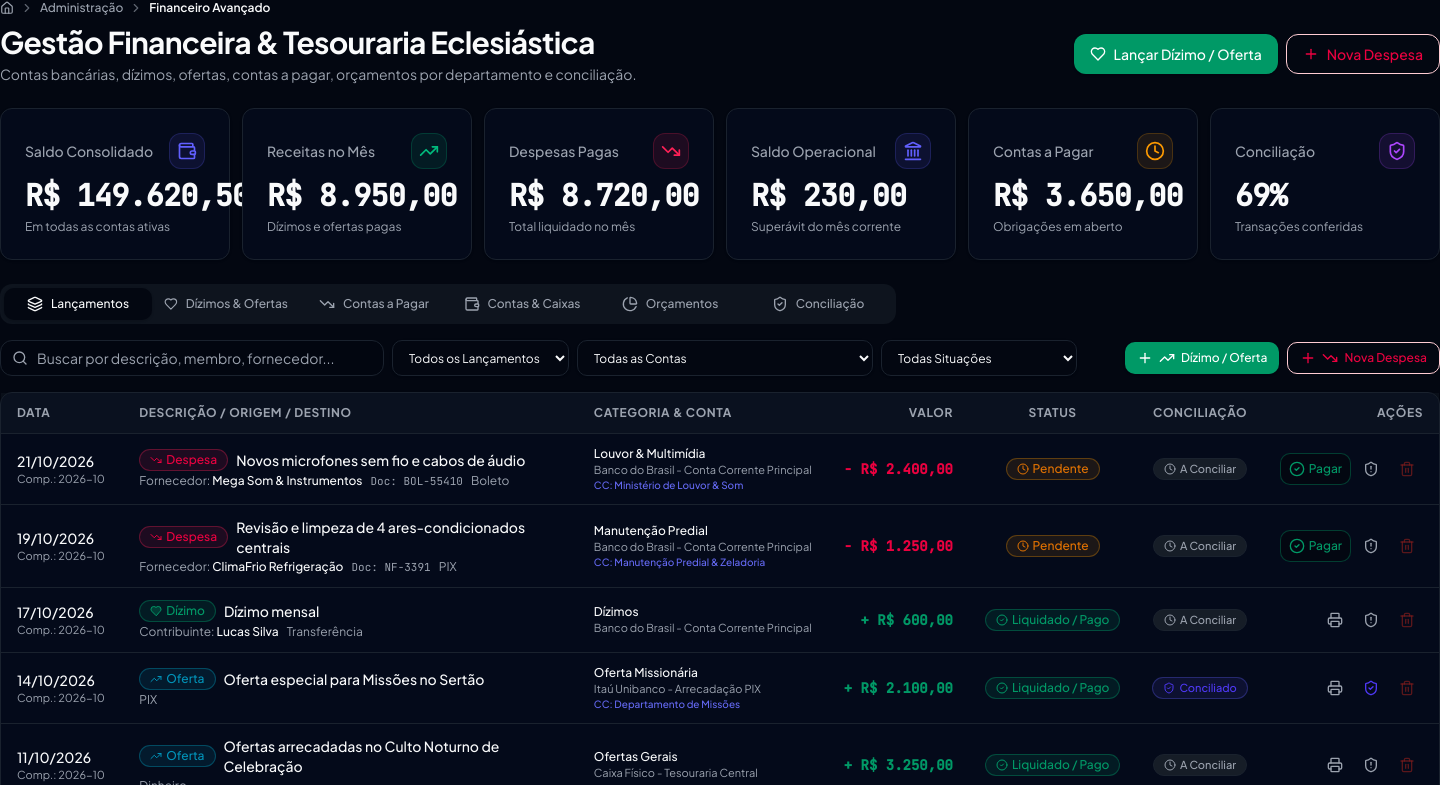
Test: Etapa 07 — Financeiro Avançado › deve liquidar/pagar uma despesa pendente debitando da conta bancária com sucesso
Expected: the text "Revisão e limpeza de 4 ares-condicionados centrais" is shown, [236,517,562,557]
Click the button "Pagar" in the row of "21/10/2026" at coordinates (1315, 469), box [1280,453,1351,485]
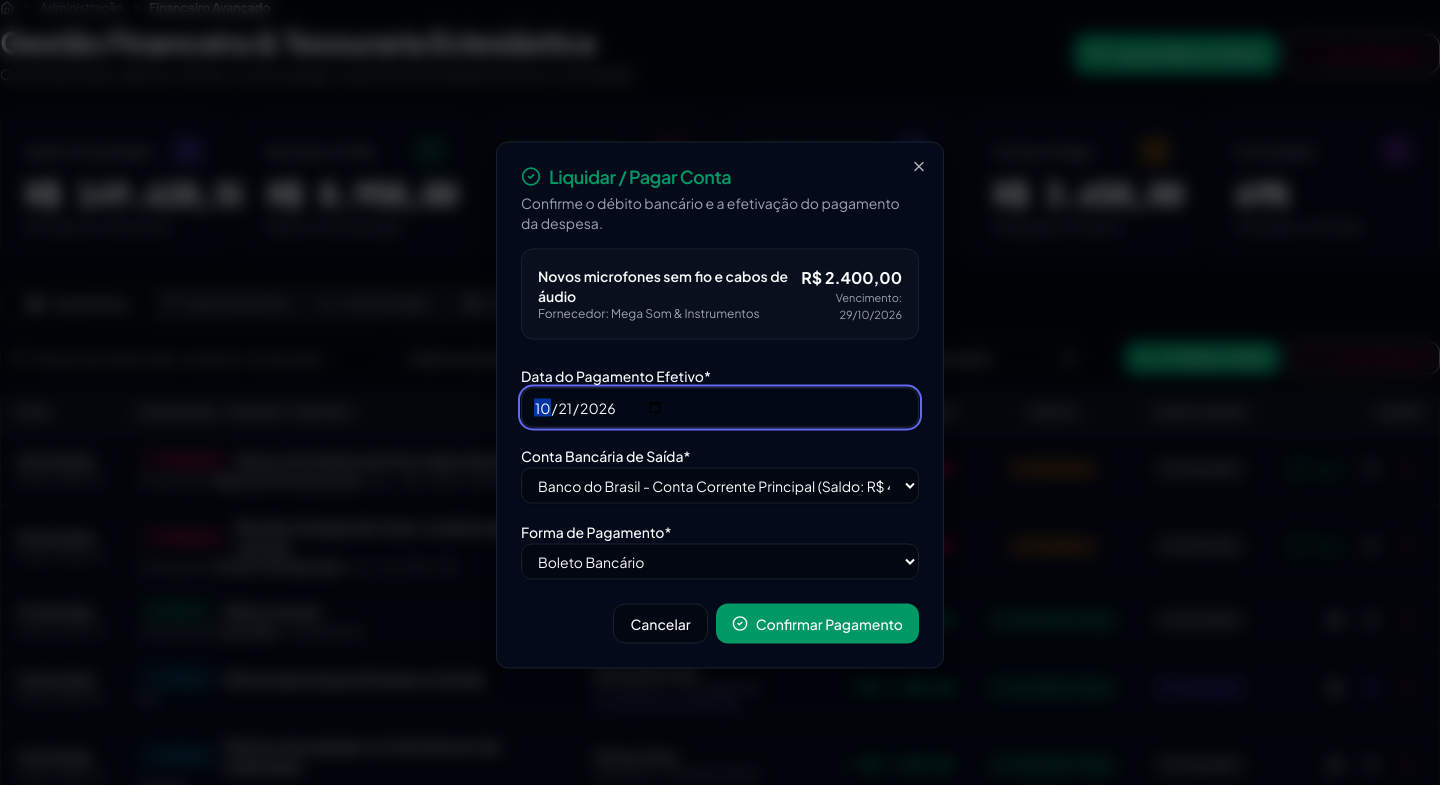
Now the heading "Liquidar / Pagar Conta" is shown, box [521,164,731,188]
Note: Confirma pagamento
Click the button "Confirmar Pagamento" at coordinates (817, 624), box [716,604,919,644]
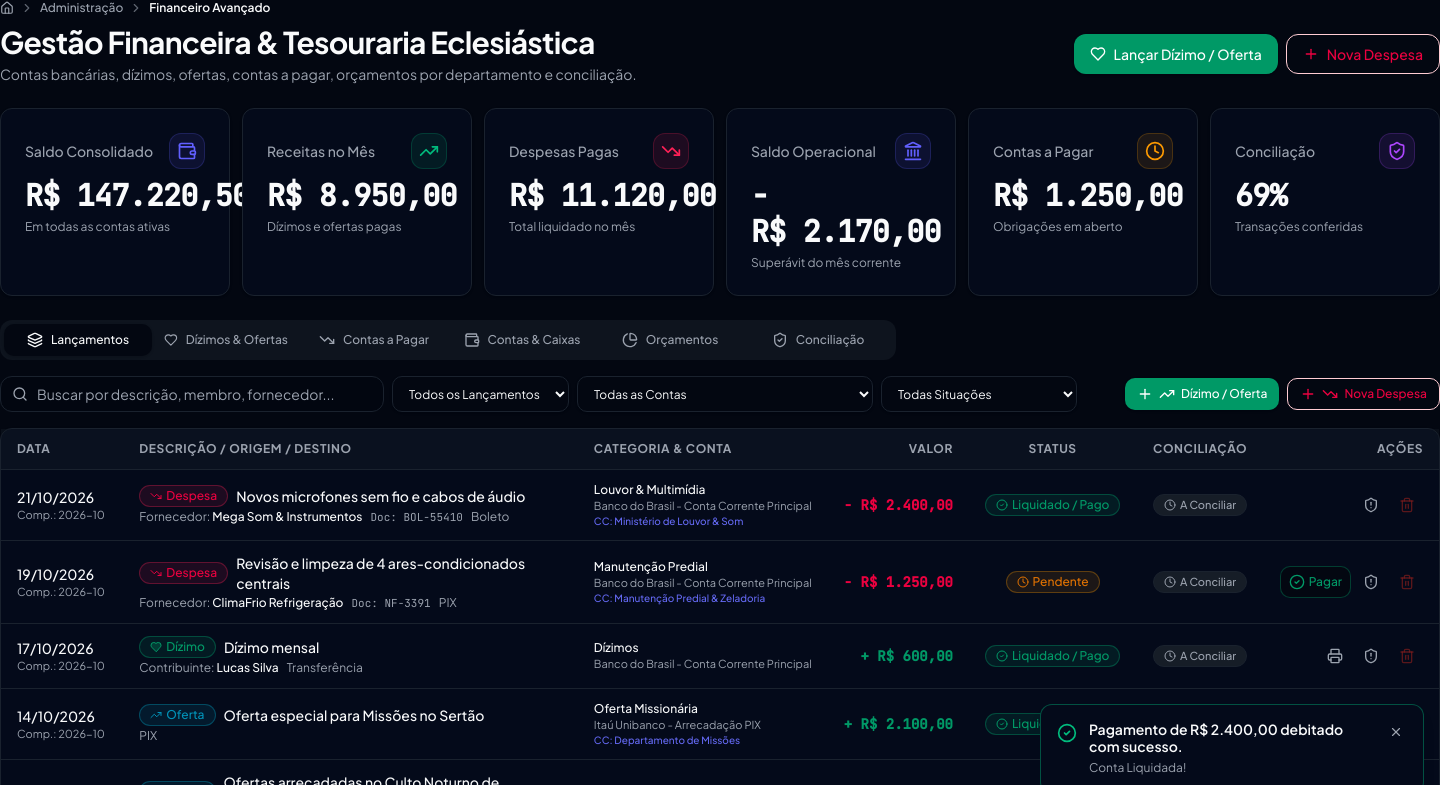
Now the text "Conta Liquidada!" is shown, box [1089,760,1186,774]
